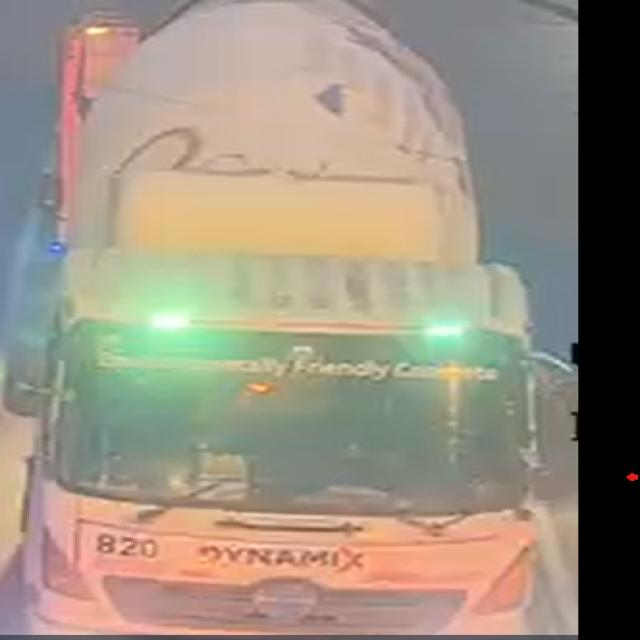Truck: (29, 1, 562, 630)
